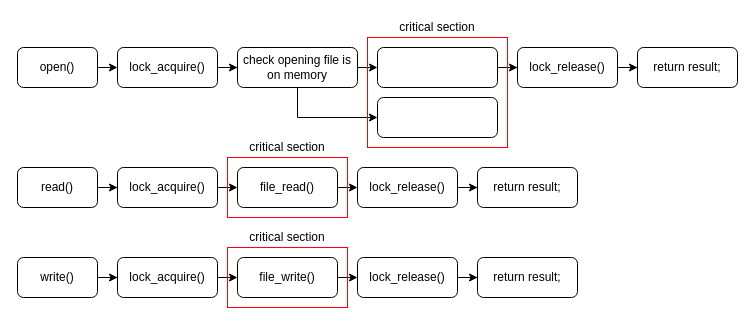
Some shapes in this 755 by 325 pixel diagram are drawn without their labels. Each missing label, with the box of its shape:
file_deny_write(fp);: (376, 96, 498, 138)
thread_current() ->thread_fd[i] = fp;: (376, 46, 498, 88)
